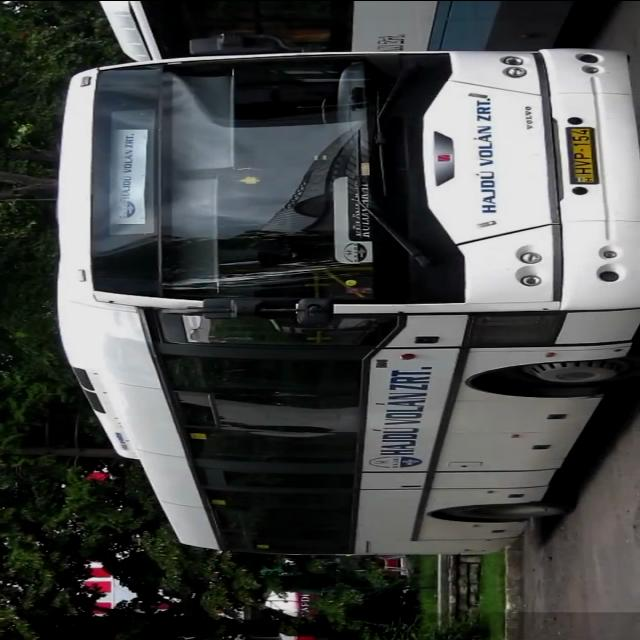bus: (51, 41, 640, 560)
